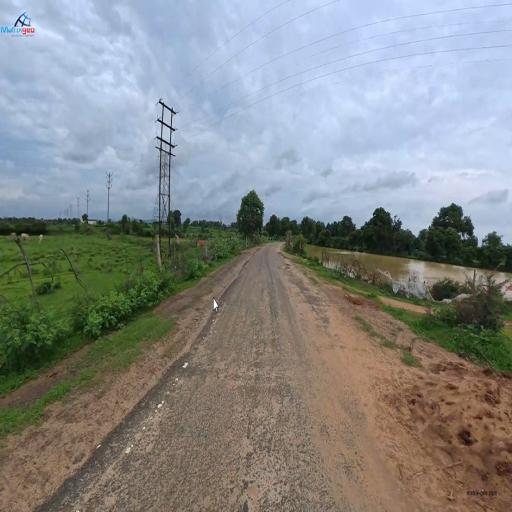ravelling: (214, 344, 296, 478)
